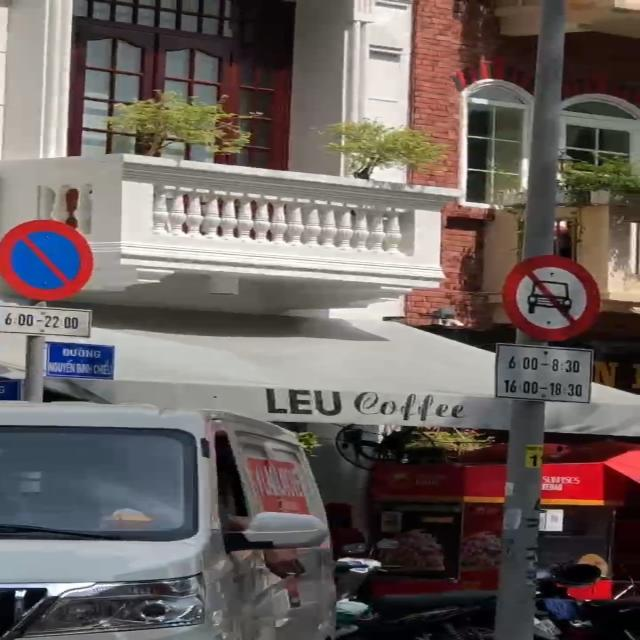Bien bao cam do xe: (0, 216, 100, 304)
Bien bao cam xe oto: (503, 253, 610, 342)
